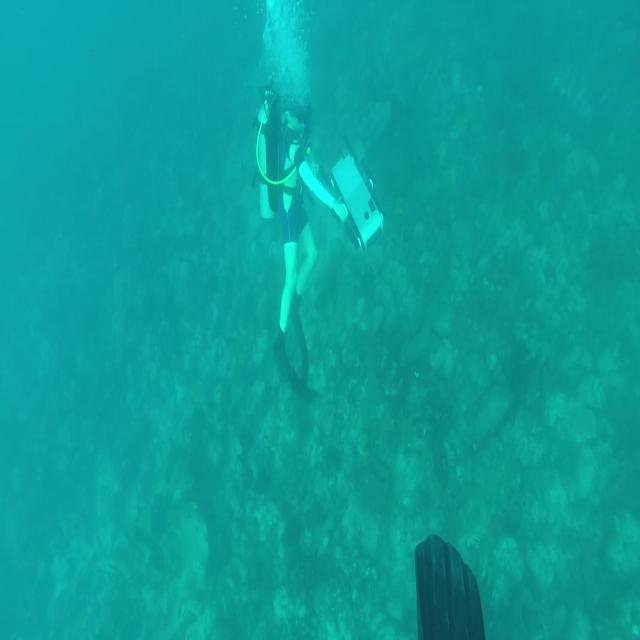human: (251, 85, 350, 403)
